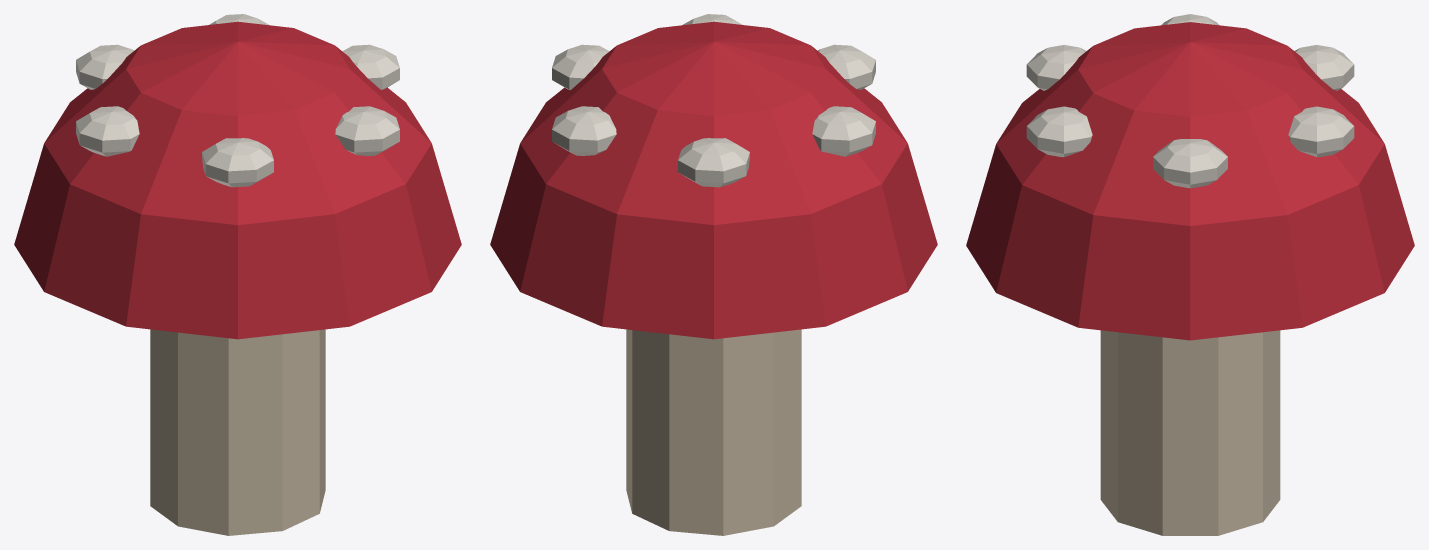
File: shroom.glb
The picture shows the model from 3 angles, left to right: view 1: azimuth 30°, elevation 25°; view 2: azimuth 150°, elevation 25°; view 3: azimuth 270°, elevation 25°; orthographic projection.
Parts seen in each view (by area): view 1: shroom; view 2: shroom; view 3: shroom.
Part boxes in pixels (x1,y1,x2,y2): shroom: (14, 14, 461, 535); shroom: (490, 14, 937, 535); shroom: (966, 14, 1414, 535).
Size of the model in its own units: 8 by 9 by 8.
